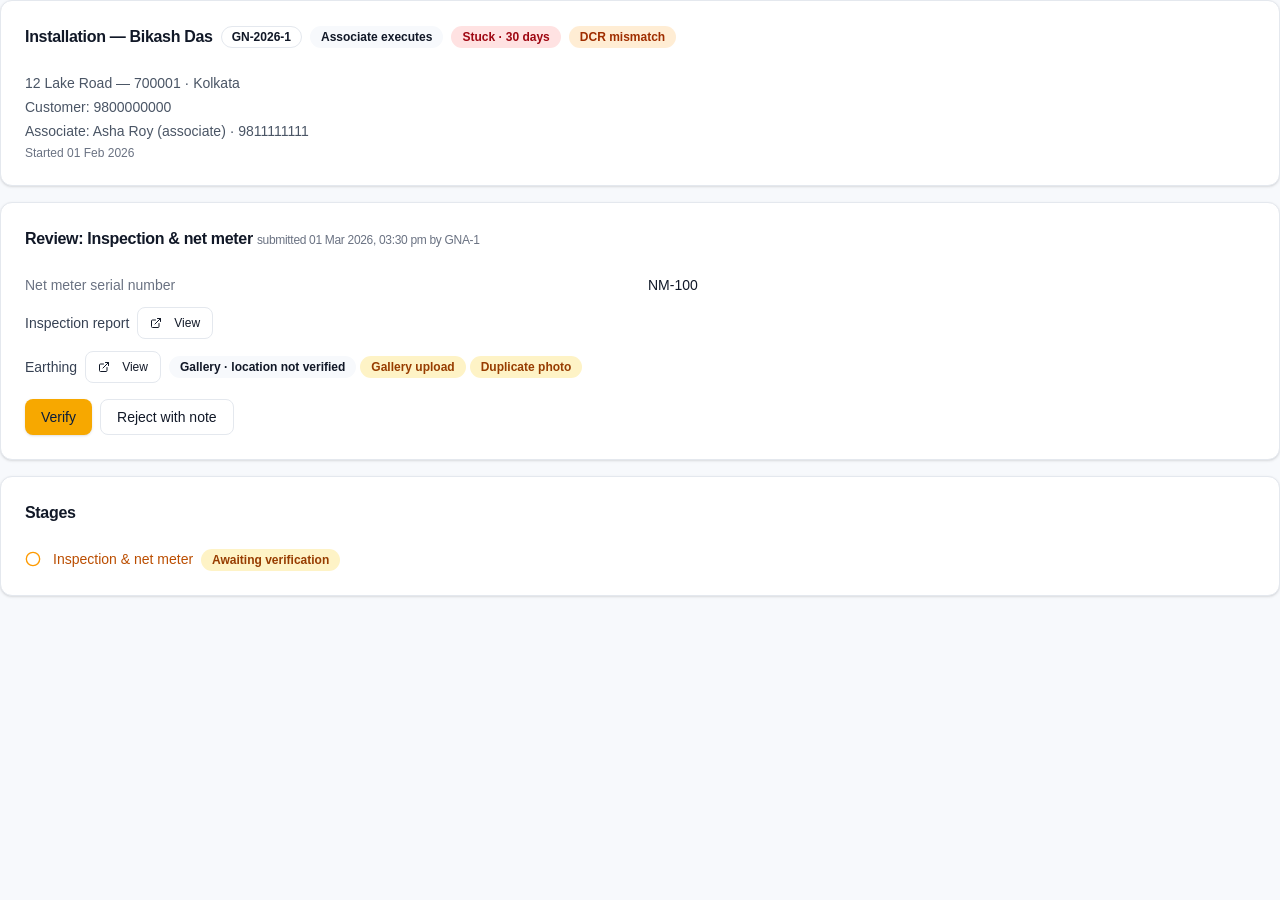
ExecutionDetailPanel — verify / reject › explains payment_gate and dcr_mismatch refusals in plain words and keeps the dialog open
Click the button "Verify" at (58, 417), box [25,399,92,435]
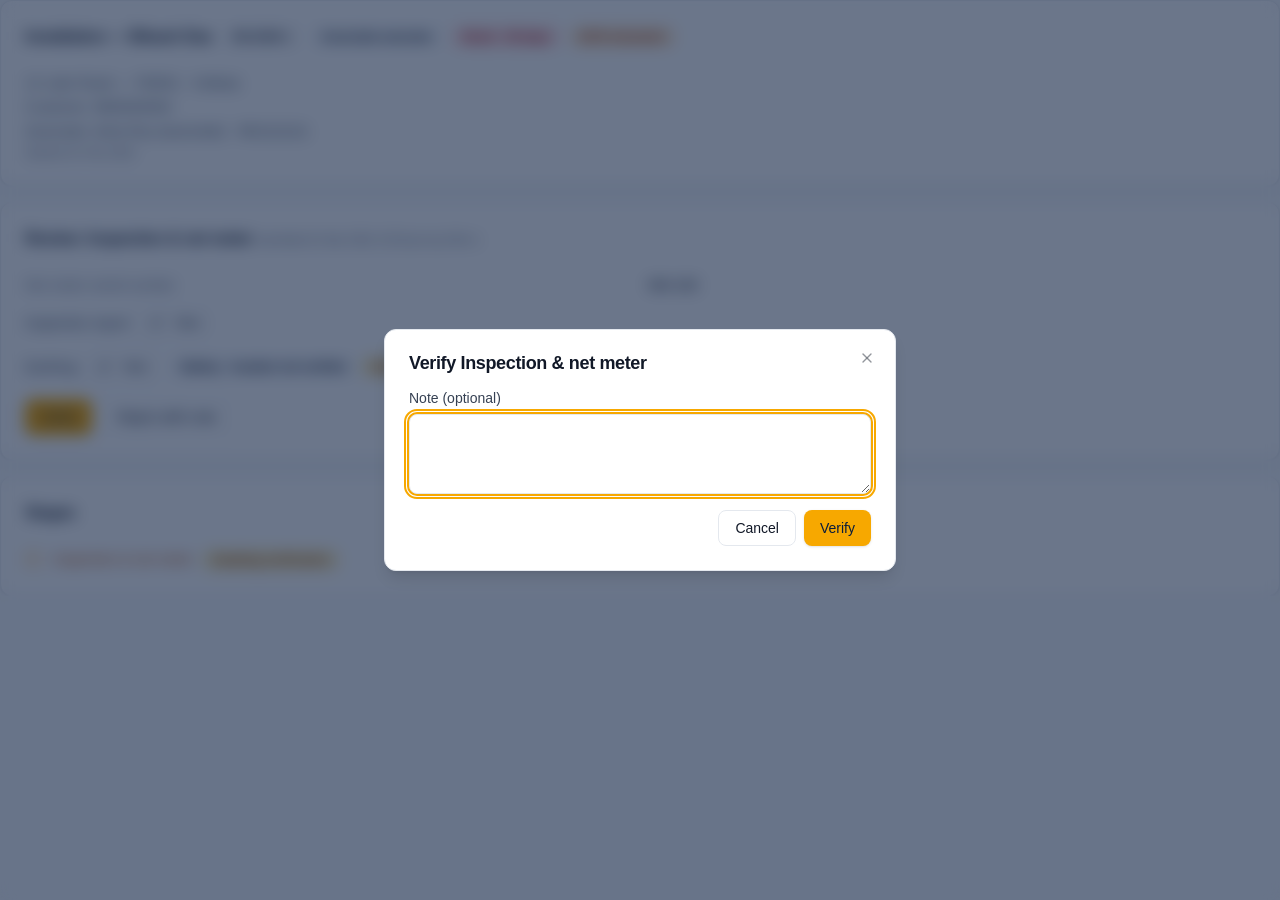
Click the button "Verify" at (838, 528), box [804,510,871,546]
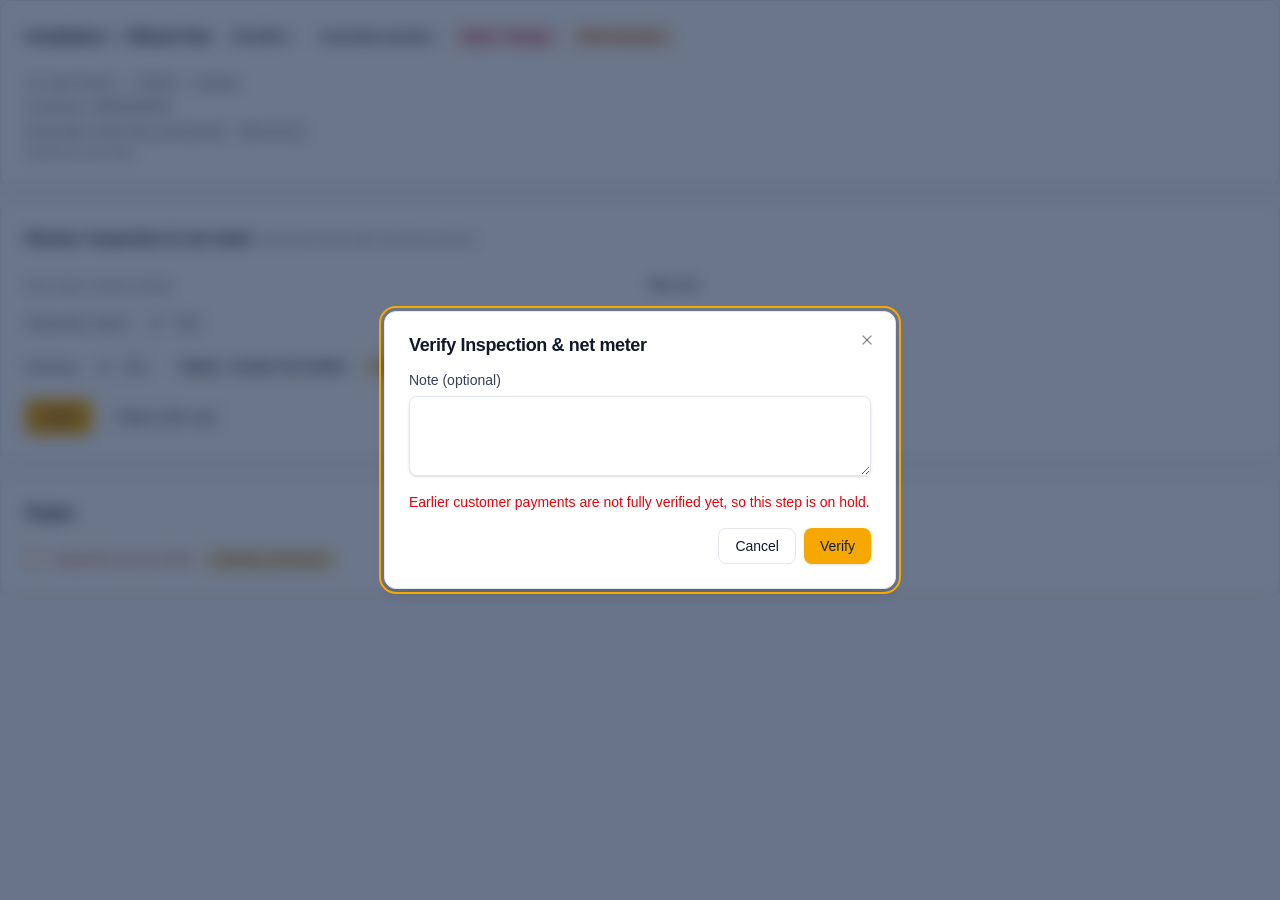
expect the message shows "Earlier customer payments are not fully verified yet": met, box [409,494,870,510]
